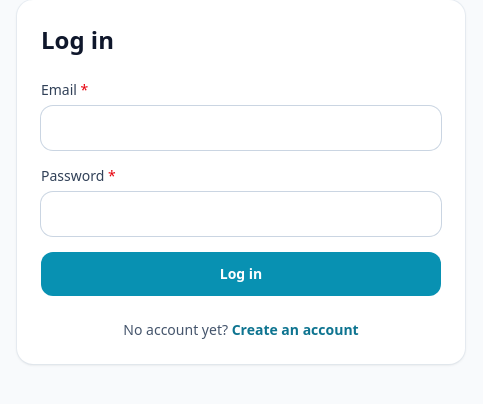
it: Authentication › shows server-side validation errors
The image size is (483, 404).
Type "p@test.local" into the field labelled "Email *" at (241, 128), box [41,106,441,150]
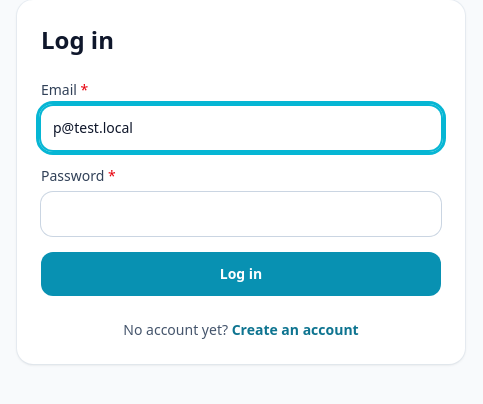
Type "wrong" into the password field labelled "Password *" at (241, 214), box [41,192,441,236]
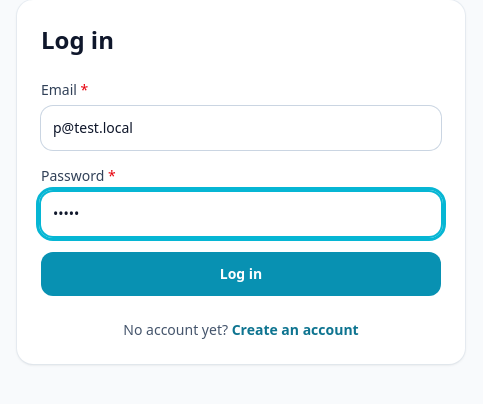
Click the button "Log in" at (241, 274), box [41,252,441,296]
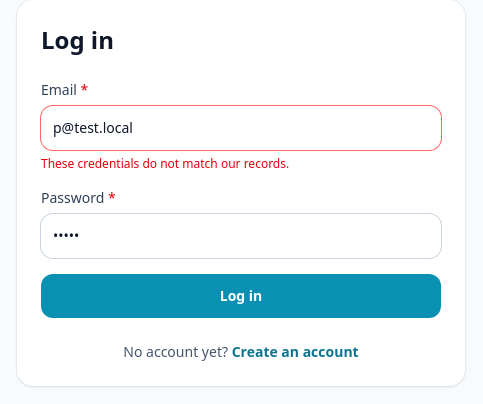
Expected: the text "These credentials do not match our records." is shown, [41,155,289,172]
